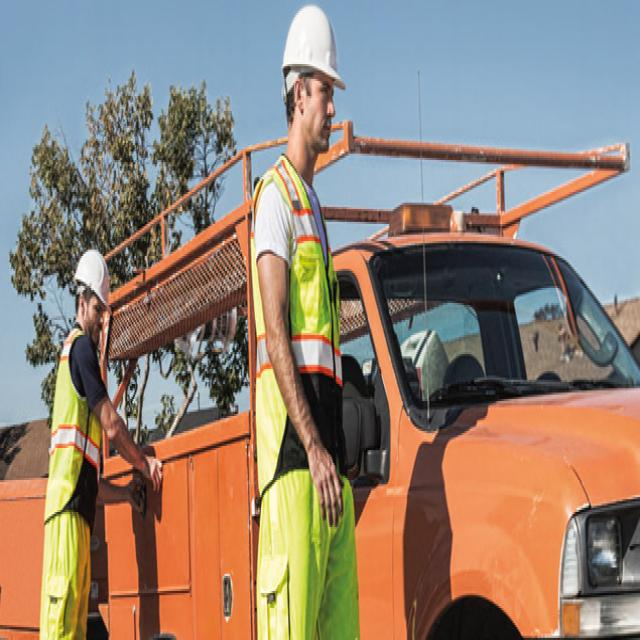Reflective-Jacket: (248, 158, 348, 405), (42, 324, 105, 516)
Safety-Helmet: (279, 2, 347, 96), (70, 241, 113, 312)
